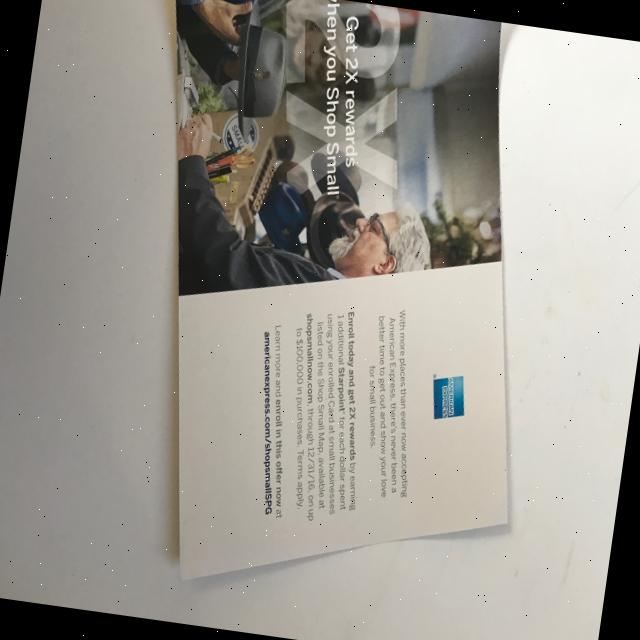paper: (92, 0, 577, 625)
